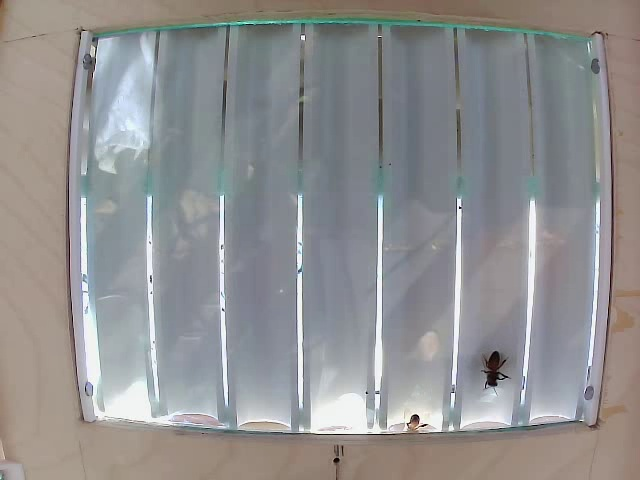bee: (475, 339, 514, 383)
